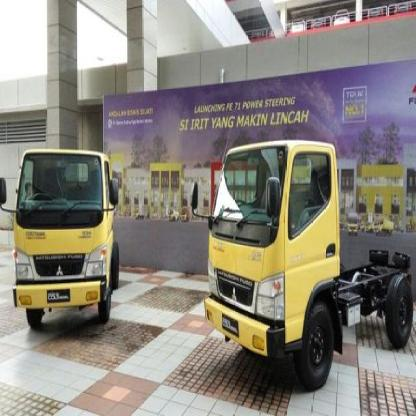truck: (191, 138, 416, 390), (1, 146, 119, 329)
